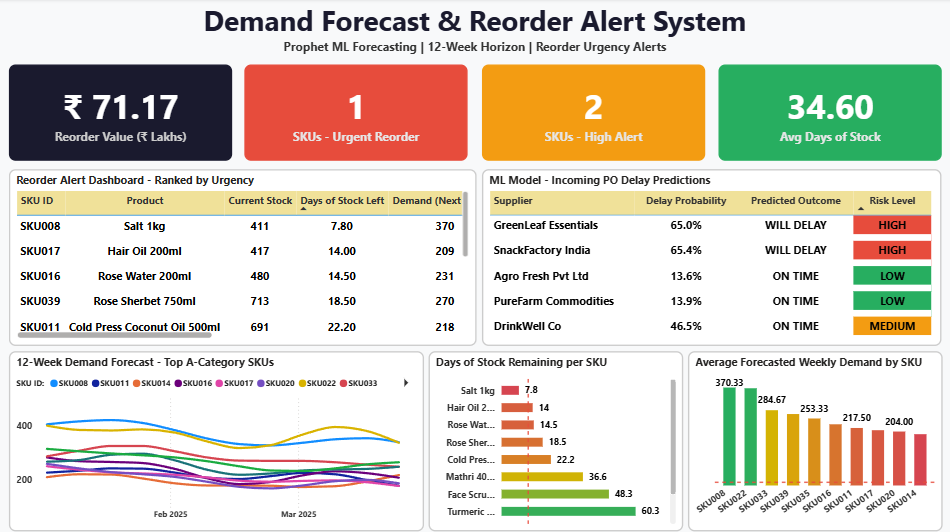

What the dashboard file says about the page in this screenshot:
{"tool":"powerbi","page":{"name":"Demand Forecast & Reorder Alerts","canvas":[1280,720],"ordinal":3},"visuals":[{"type":"textbox","box":[1.5,0,1278.6,81],"z":0},{"type":"card","fields":{"Values":["_Measures.Total Reorder Value"]},"box":[14.1,89.1,300.3,129.8],"z":1000},{"type":"card","fields":{"Values":["_Measures.Avg Days of Stock Remaining"]},"box":[968,89.1,300.3,129.8],"z":2000},{"type":"card","fields":{"Values":["_Measures.Urgent Reorders"]},"box":[331.5,89.1,300.3,129.8],"z":3000},{"type":"card","fields":{"Values":["_Measures.High Alert Reorders"]},"box":[650.6,89.1,300.3,129.8],"z":4000},{"type":"tableEx","title":"Reorder Alert Dashboard - Ranked by Urgency","fields":{"Values":["reorder_alerts.sku_id","reorder_alerts.product_name","Sum(reorder_alerts.current_stock)","Sum(reorder_alerts.days_of_stock)","Sum(reorder_alerts.demand_next_7d)","Sum(reorder_alerts.demand_next_14d)","Sum(reorder_alerts.demand_next_30d)","Sum(reorder_alerts.reorder_value_inr)","reorder_alerts.urgency"]},"box":[14.1,229.9,628,237.7],"z":5000},{"type":"lineChart","title":"12-Week Demand Forecast - Top A-Category SKUs","fields":{"Category":["demand_forecast.forecast_date.Variation.Date Hierarchy.Year","demand_forecast.forecast_date.Variation.Date Hierarchy.Quarter","demand_forecast.forecast_date.Variation.Date Hierarchy.Month","demand_forecast.forecast_date.Variation.Date Hierarchy.Day"],"Y":["Sum(demand_forecast.forecasted_units)"],"Series":["demand_forecast.sku_id"]},"box":[14.1,473.9,558,242.4],"z":6000},{"type":"clusteredBarChart","title":"Days of Stock Remaining per SKU","fields":{"Y":["Sum(reorder_alerts.days_of_stock)"],"Category":["reorder_alerts.product_name"]},"box":[578.6,473.9,342.5,242.4],"z":7000},{"type":"clusteredColumnChart","title":"Average Forecasted Weekly Demand by SKU","fields":{"Category":["demand_forecast.sku_id"],"Y":["Avg(demand_forecast.forecasted_units)"]},"box":[927.4,473.9,342.5,242.4],"z":8000},{"type":"tableEx","title":"ML Model - Incoming PO Delay Predictions","fields":{"Values":["new_po_predictions.supplier_name","Sum(new_po_predictions.delay_probability)","new_po_predictions.predicted_outcome","new_po_predictions.risk_level"]},"box":[650.6,229.9,617.7,237.7],"z":9000}]}

Visuals, with their boxes in screenshot pixels (x1, y1, x2, y2), scaled from the page's 1280x720 canvas onto the 950x532 screenshot:
textbox: bbox=[1, 0, 949, 60]
card - _Measures.Total Reorder Value: bbox=[10, 66, 233, 162]
card - _Measures.Avg Days of Stock Remaining: bbox=[718, 66, 941, 162]
card - _Measures.Urgent Reorders: bbox=[246, 66, 469, 162]
card - _Measures.High Alert Reorders: bbox=[483, 66, 706, 162]
"Reorder Alert Dashboard - Ranked by Urgency" tableEx: bbox=[10, 170, 477, 346]
"12-Week Demand Forecast - Top A-Category SKUs" lineChart: bbox=[10, 350, 425, 529]
"Days of Stock Remaining per SKU" clusteredBarChart: bbox=[429, 350, 684, 529]
"Average Forecasted Weekly Demand by SKU" clusteredColumnChart: bbox=[688, 350, 943, 529]
"ML Model - Incoming PO Delay Predictions" tableEx: bbox=[483, 170, 941, 346]
